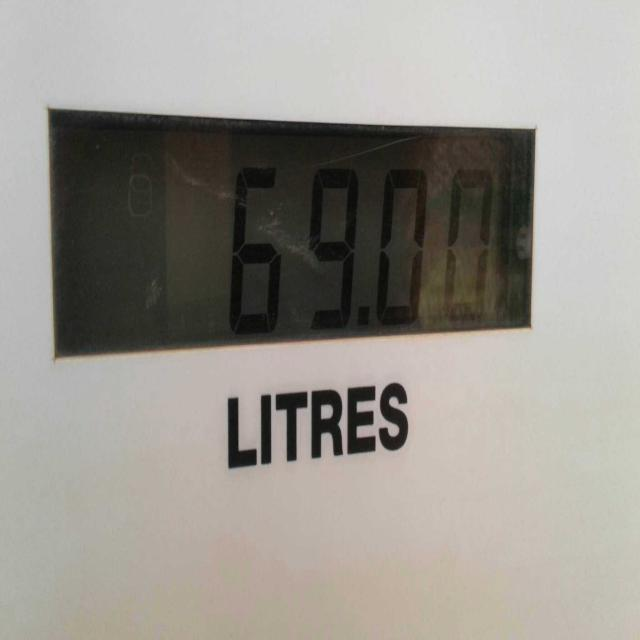.: (351, 290, 376, 340)
0: (438, 158, 501, 324), (372, 155, 430, 326)
6: (220, 162, 286, 340)
9: (302, 158, 362, 328)
